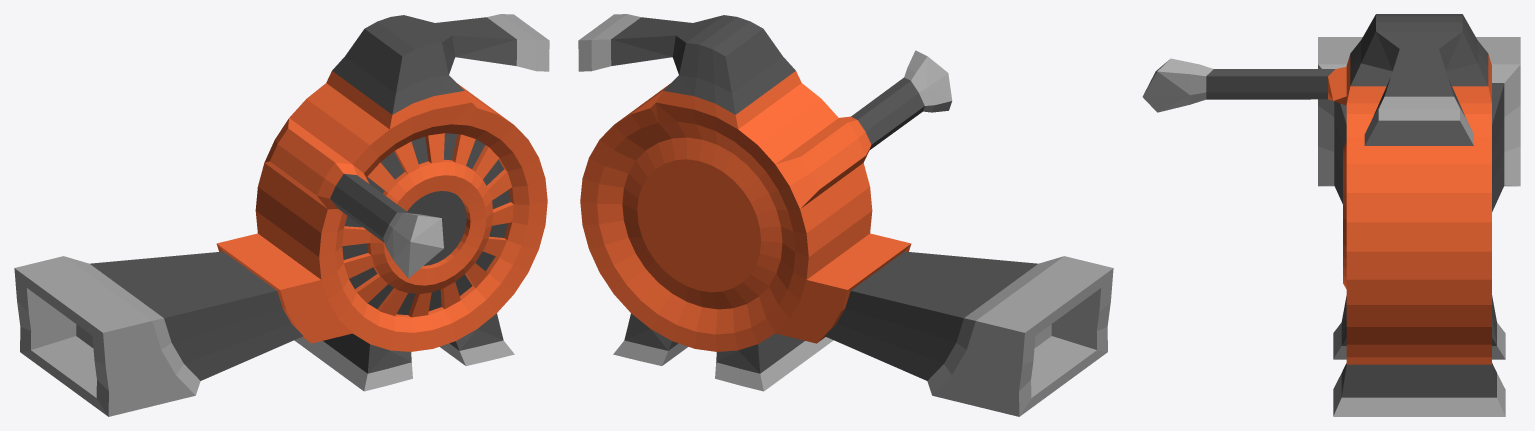
The model's file is Shooter.dae.
3 views of the same model, side by side, from view 1: azimuth 30°, elevation 25°; view 2: azimuth 150°, elevation 25°; view 3: azimuth 270°, elevation 25° (orthographic). The views are drawn at different scales.
Parts seen in each view (by area): view 1: c1, Nozzle, Gear, Handle, feet; view 2: c1, Nozzle, Handle, feet; view 3: c1, Handle, feet, Nozzle, Gear.
Boxes of the visible parts, <box> form: c1: <box>216,83,547,351</box>; Nozzle: <box>14,251,303,416</box>; Gear: <box>342,133,513,317</box>; Handle: <box>326,14,549,129</box>; feet: <box>294,313,514,391</box>; c1: <box>580,50,952,351</box>; Nozzle: <box>824,251,1113,416</box>; Handle: <box>578,14,801,129</box>; feet: <box>613,313,833,391</box>; c1: <box>1142,58,1491,364</box>; Handle: <box>1346,14,1491,145</box>; feet: <box>1333,295,1505,416</box>; Nozzle: <box>1318,37,1520,211</box>; Gear: <box>1343,142,1346,288</box>.
Size of the model in its own units: 4.14 by 2.51 by 2.62.
